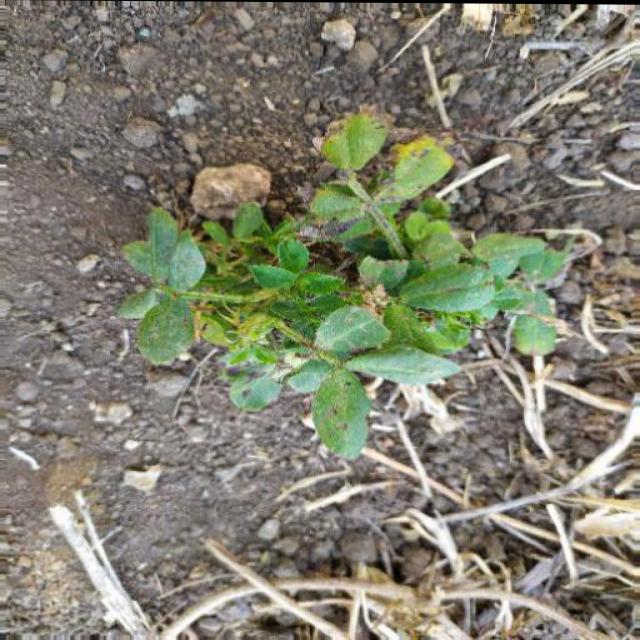weed: (125, 115, 615, 439)
